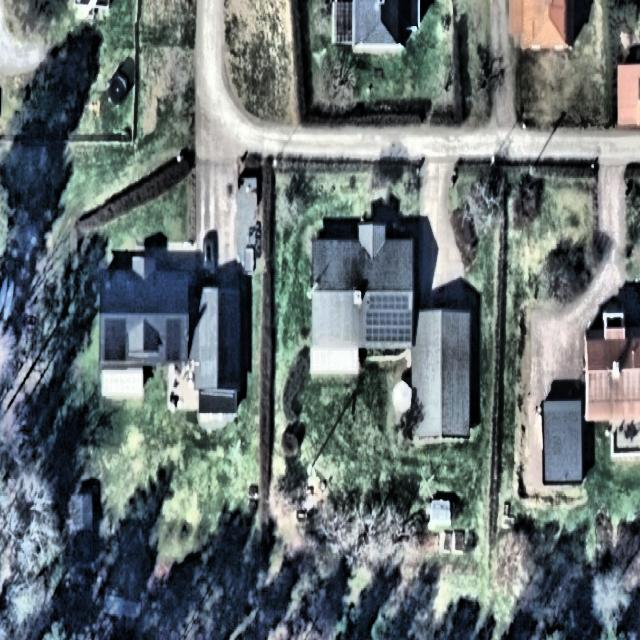roof_pv: (365, 290, 412, 344), (105, 316, 129, 362), (164, 322, 183, 359)
